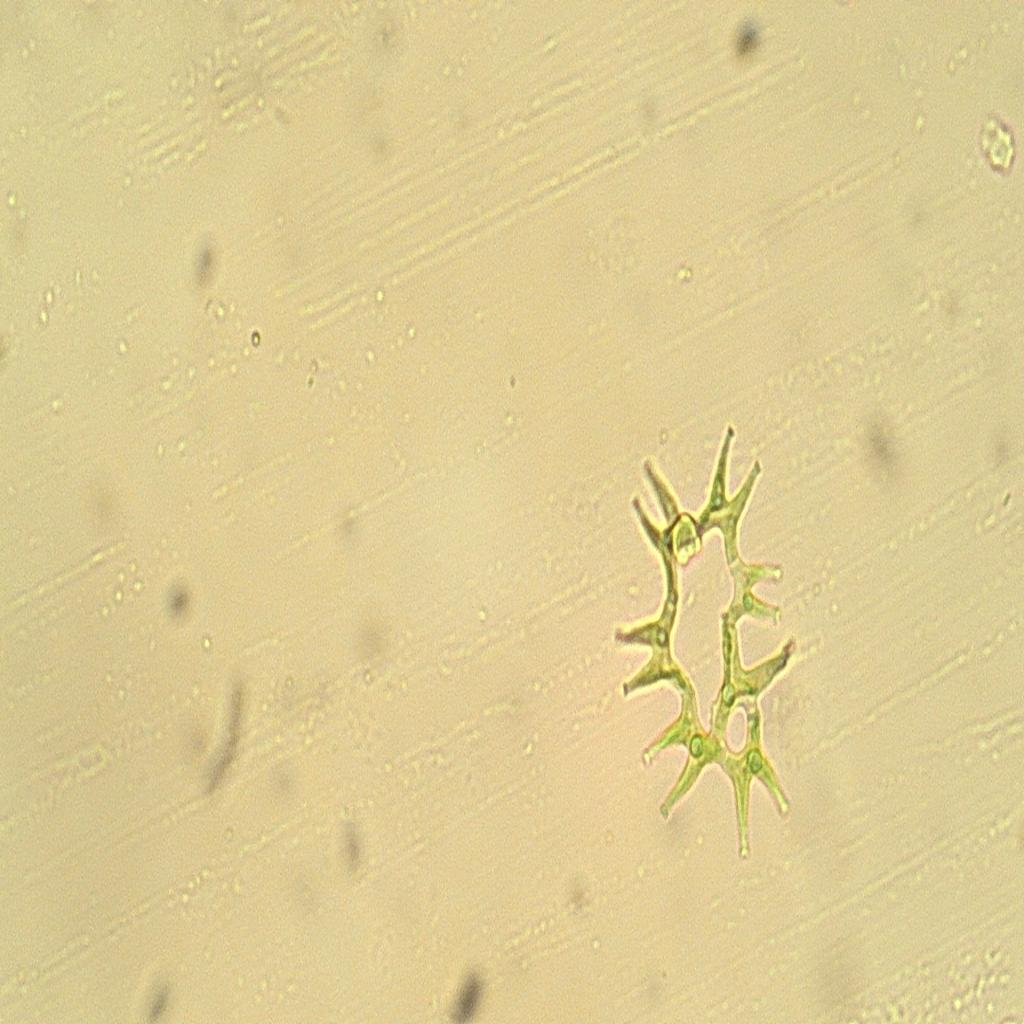Pediastrum_CFI: (601, 383, 817, 887)
